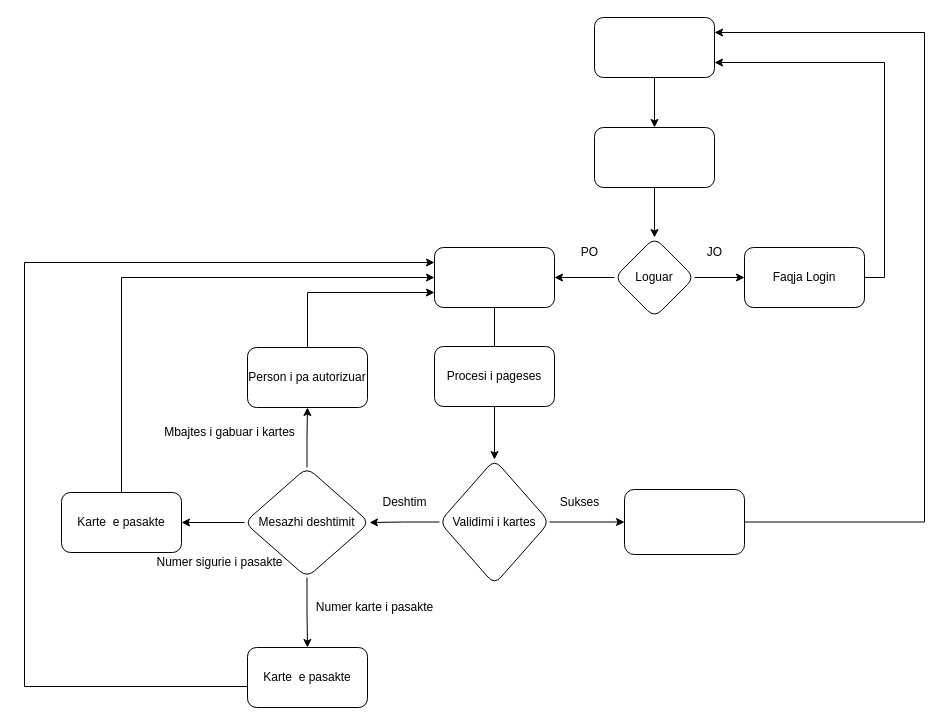
The diagram is 950 pixels wide and 725 high, and some of its shapes have lost their labels. Each missing label, with the centre of its shape:
Afishimi i mesazhit te rezervimit te suksesshem: [684,521]
Faqja kryesore: [654,47]
Forma per rezervimin e fluturimit te zgjedhur: [494,277]
Rezervim bilete fluturimi: [654,157]
